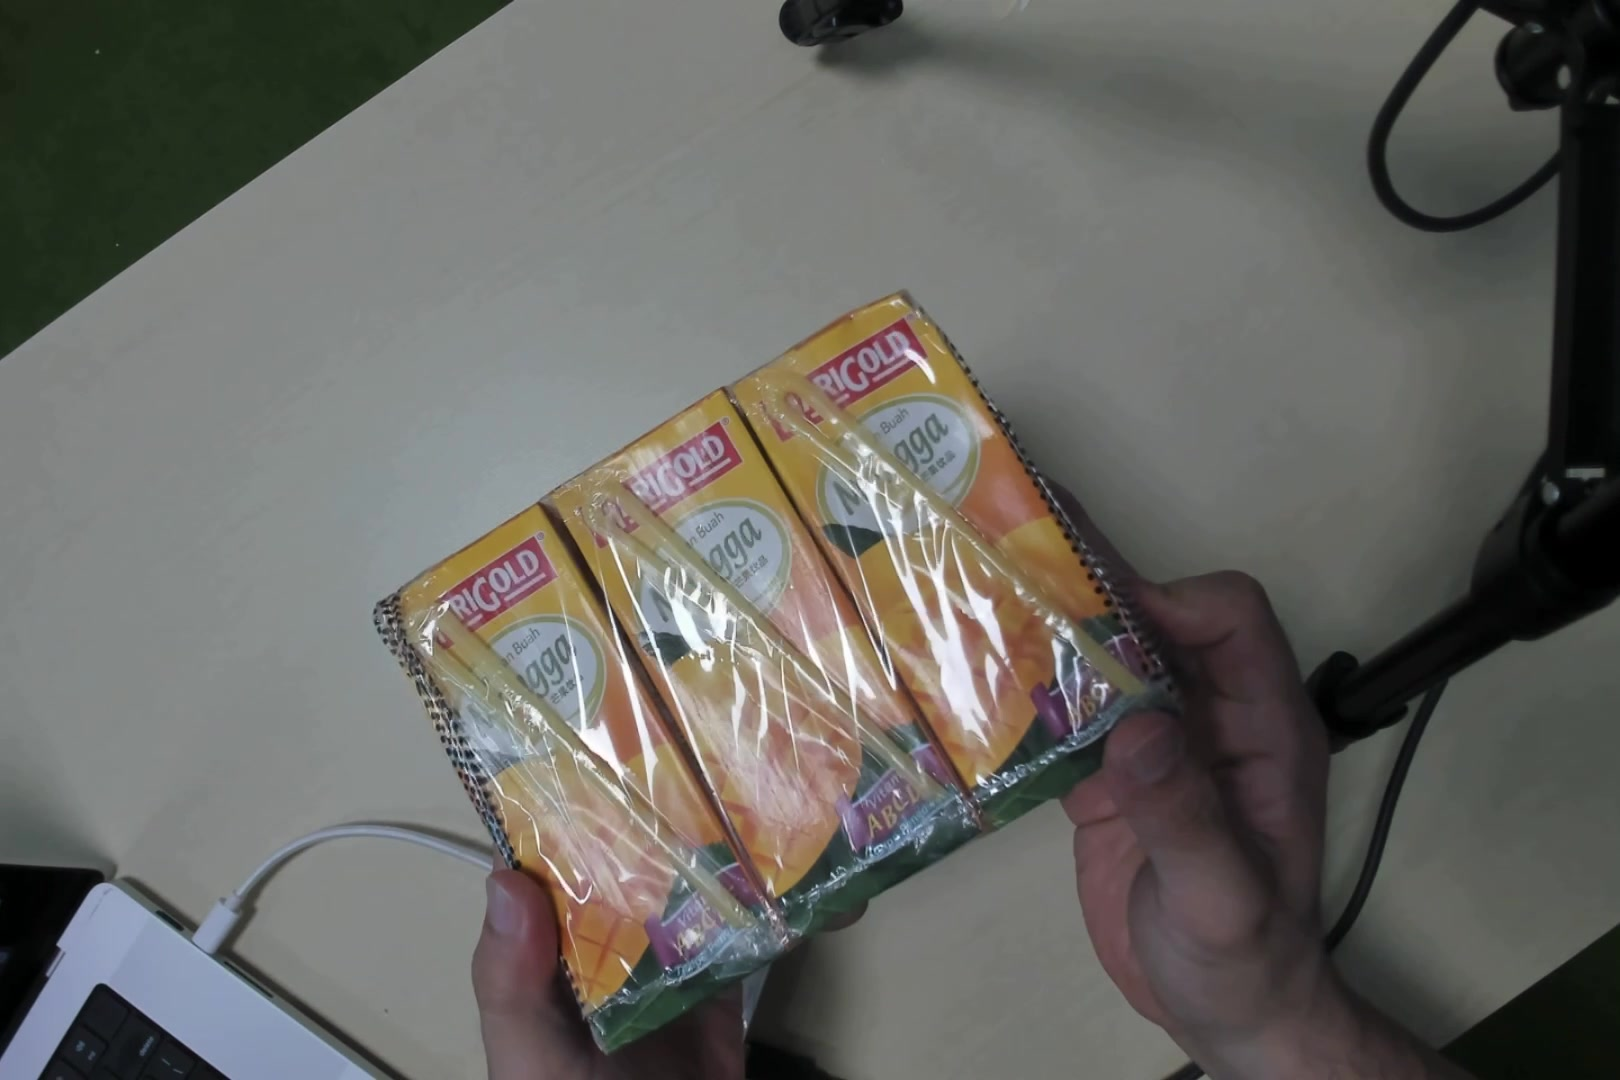FruitJuice_700-799g_Halal_NonHealthy: (452, 325, 1076, 931)
